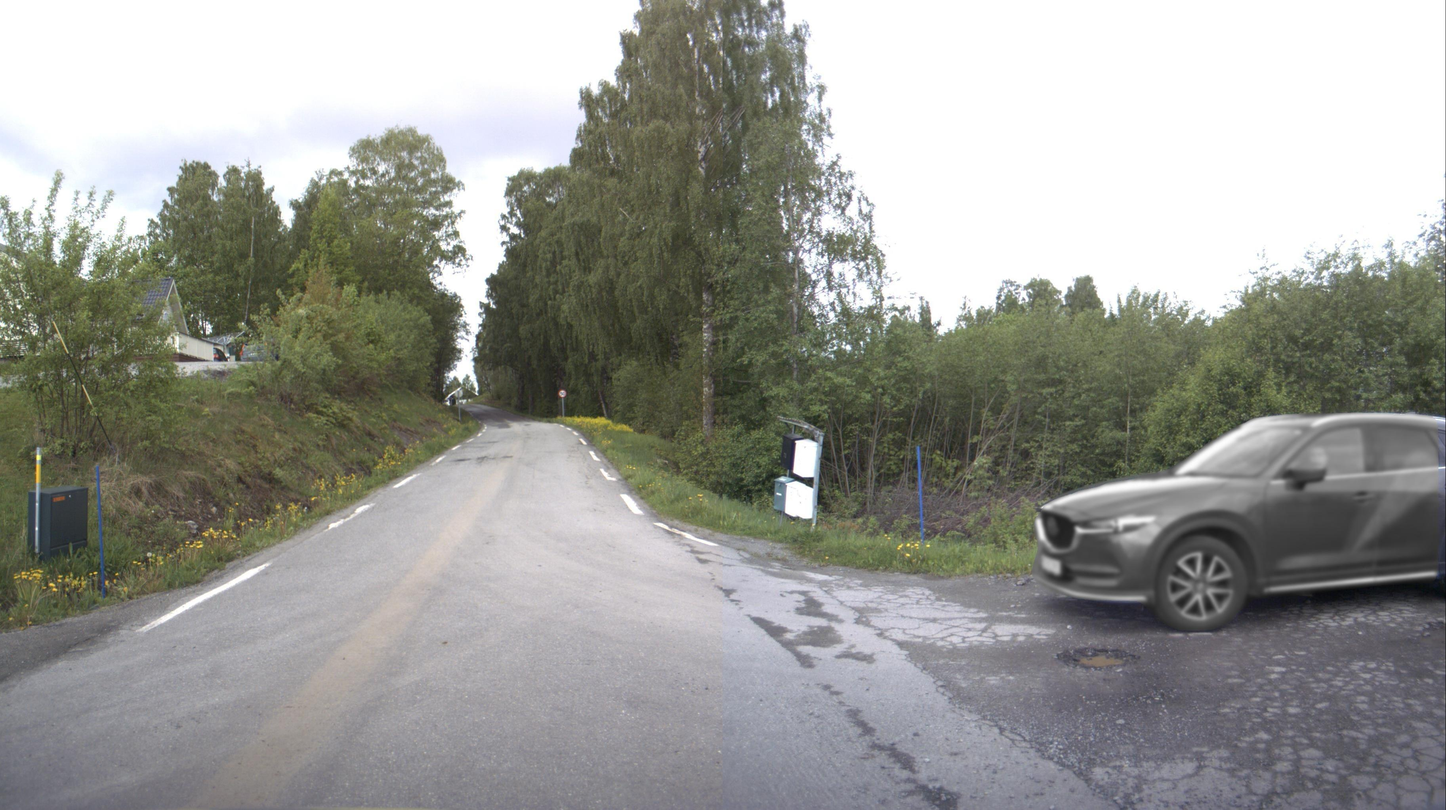pothole: (1058, 645, 1138, 671)
